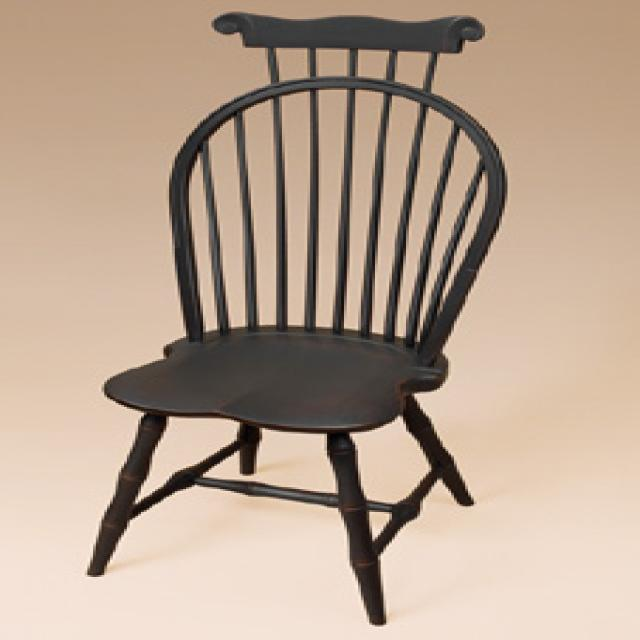chair: (87, 10, 511, 640)
